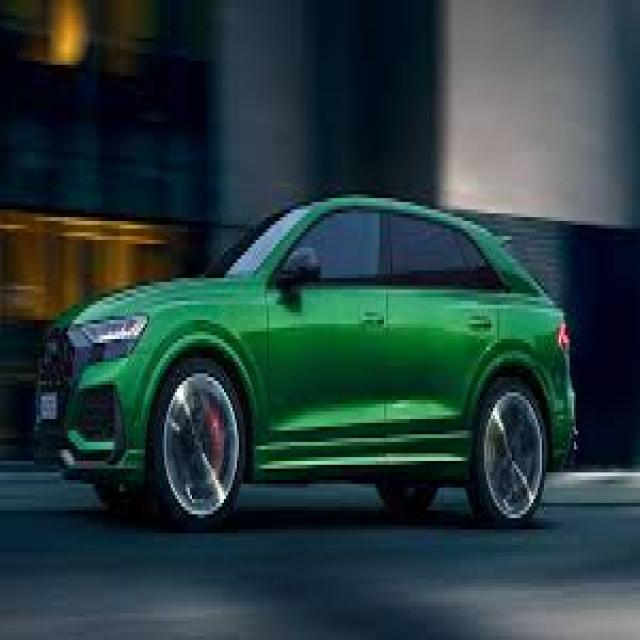Car: (60, 194, 572, 523)
